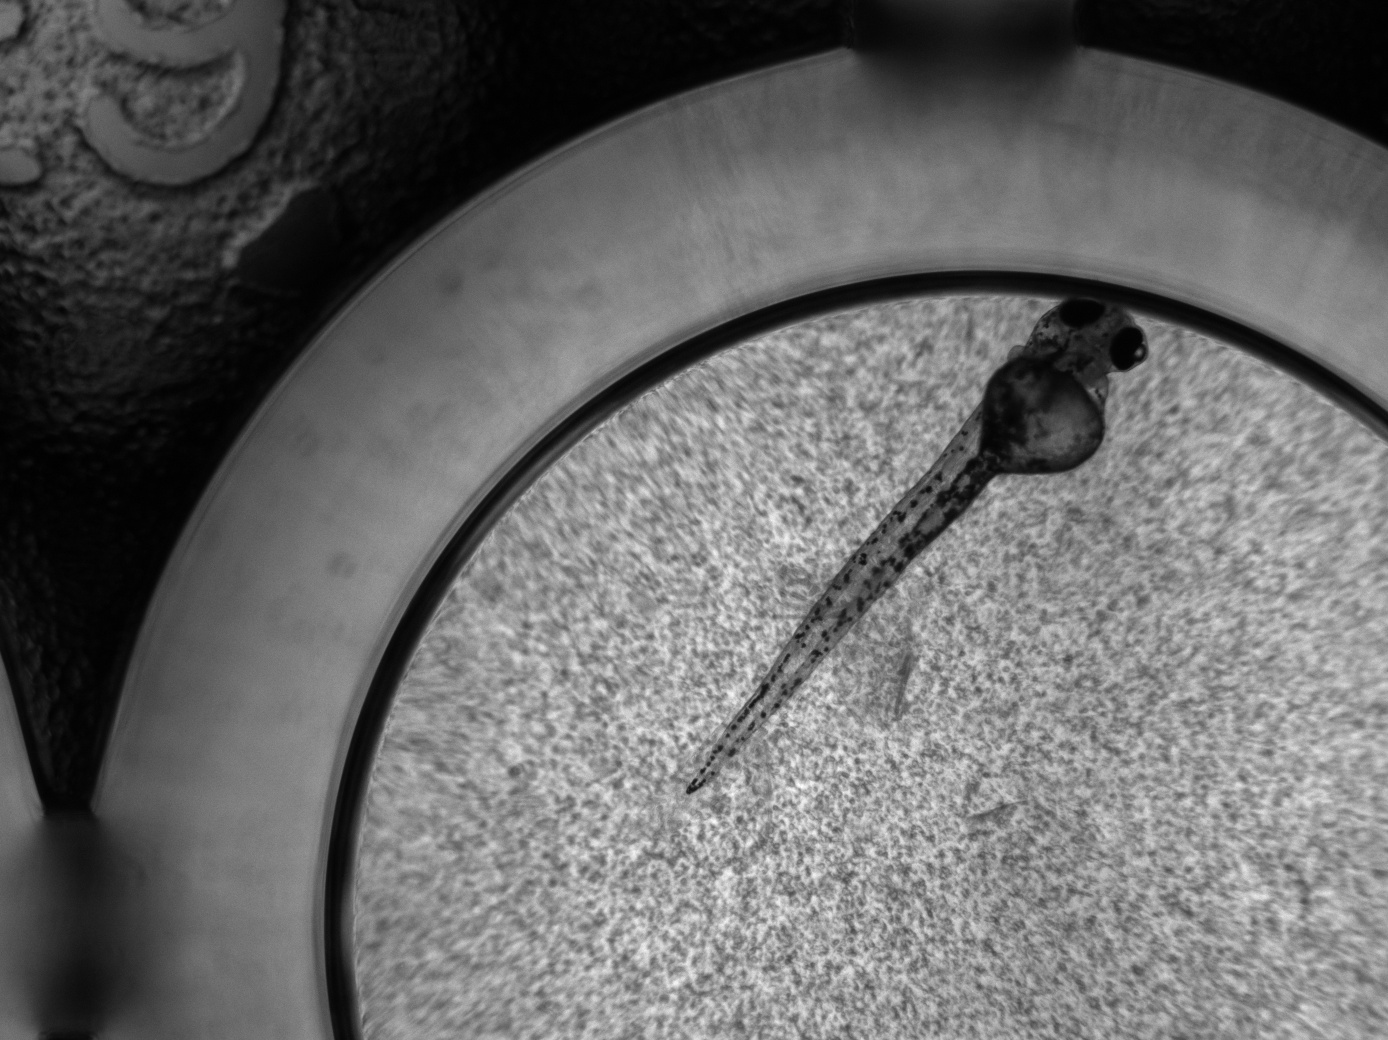embryo: (685, 295, 1151, 794)
eye: (1110, 326, 1146, 371), (1058, 297, 1105, 328)
yolksac: (966, 355, 1106, 474)
